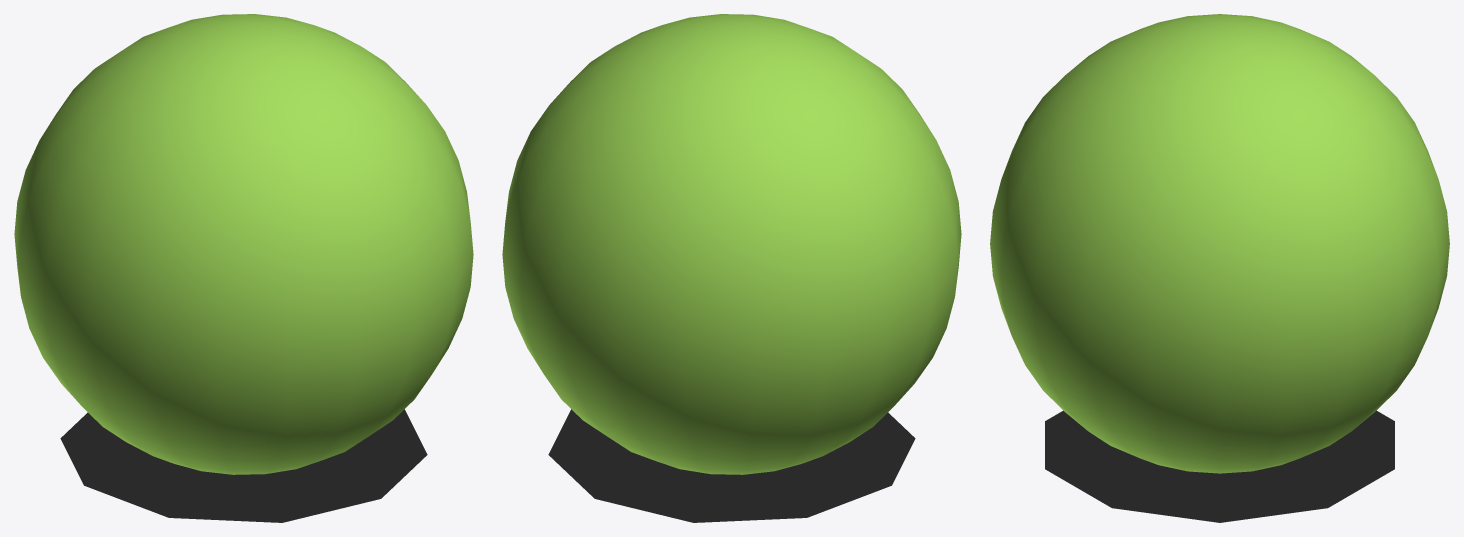
Rendered from Enemy.fbx.
3 views of the same model, side by side, from view 1: azimuth 30°, elevation 25°; view 2: azimuth 150°, elevation 25°; view 3: azimuth 270°, elevation 25° (orthographic).
Visible parts, largest first — view 1: pSphere1, pCylinder2; view 2: pSphere1, pCylinder2; view 3: pSphere1, pCylinder2.
Part boxes in pixels (<box>): pSphere1: <box>14,14,473,474</box>; pCylinder2: <box>60,409,427,522</box>; pSphere1: <box>502,14,961,474</box>; pCylinder2: <box>548,409,915,522</box>; pSphere1: <box>990,14,1449,473</box>; pCylinder2: <box>1045,410,1394,522</box>.
Size of the model in its own units: 0.6 by 0.6 by 0.6.
